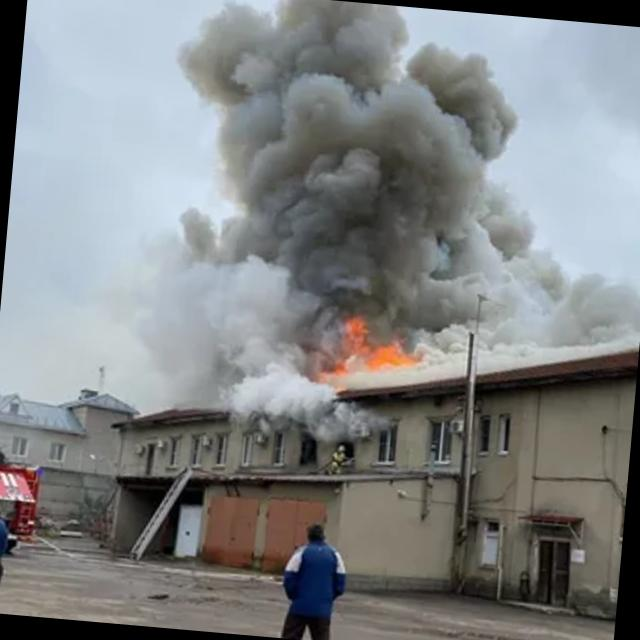Smoke: (153, 0, 548, 390)
